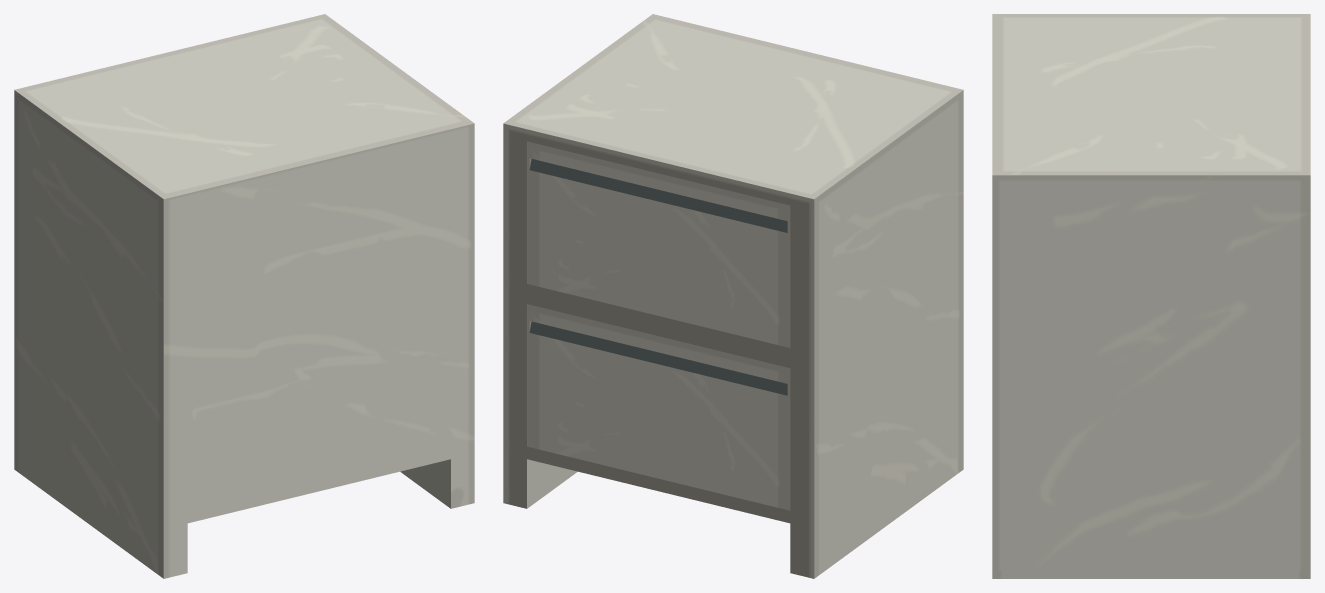
File: smallChest.fbx
3 renders of one model, left to right at view 1: azimuth 30°, elevation 25°; view 2: azimuth 150°, elevation 25°; view 3: azimuth 270°, elevation 25°, orthographic. The views are drawn at different scales.
Parts seen in each view (by area): view 1: drawer; view 2: drawer, drawerChest1, drawerChest2; view 3: drawer.
Boxes of the visible parts, bbox=[...] form: drawer: bbox=[14, 14, 474, 578]; drawer: bbox=[503, 14, 963, 578]; drawerChest1: bbox=[527, 141, 790, 347]; drawerChest2: bbox=[527, 304, 790, 510]; drawer: bbox=[992, 14, 1310, 578].
Size of the model in its own units: 6 by 7 by 5.
